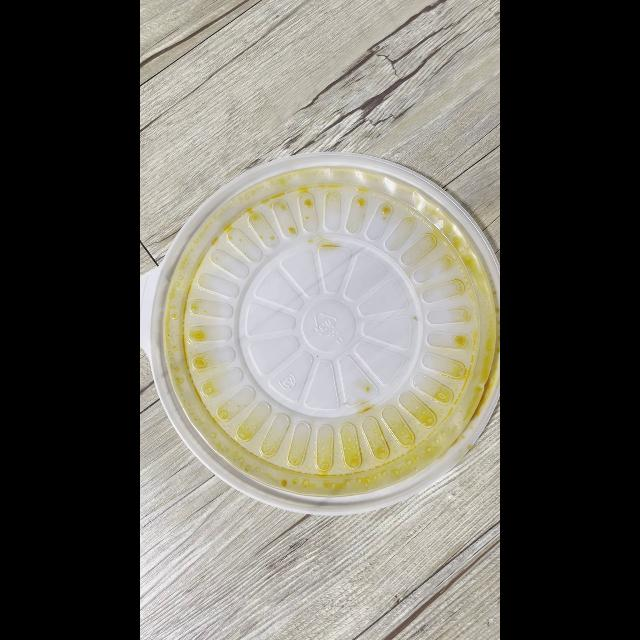dirty: (157, 152, 496, 503)
